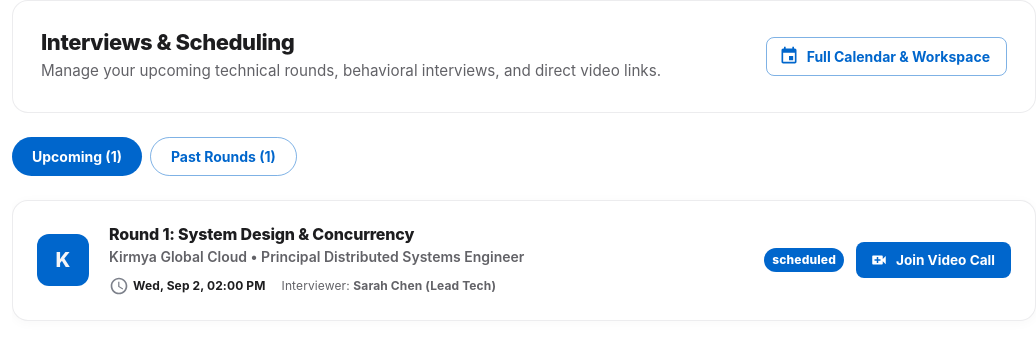
Interview & Scheduling Experience (Prompt 24/50) › InterviewDashboard Component › switches tabs between Upcoming and Past Rounds
The image size is (1036, 338).
Click the button "Past Rounds (1)" at (223, 156), box [150,137,297,176]
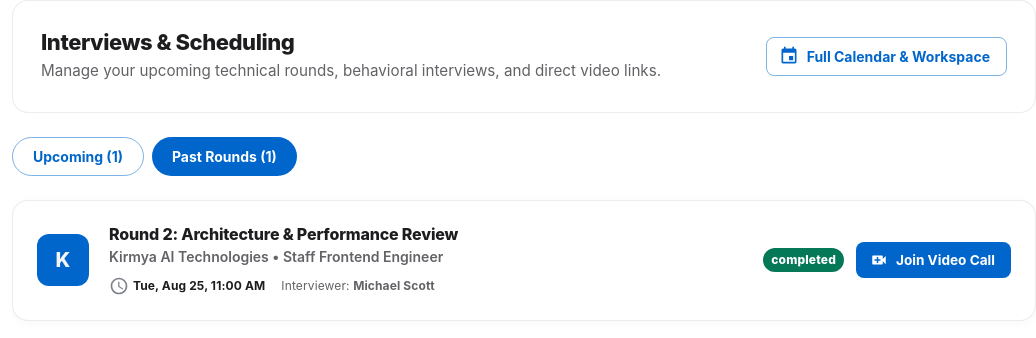
Now the heading "Round 2: Architecture & Performance Review" is shown, box [109,225,458,244]
